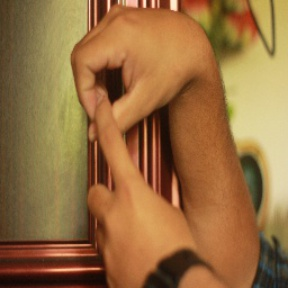Q: (70, 3, 216, 251)
